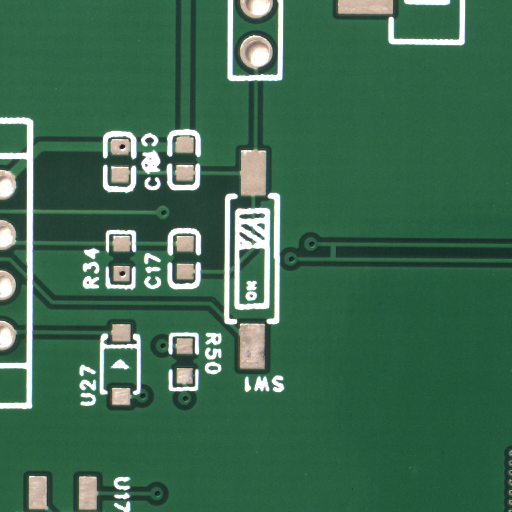Short: (332, 251, 342, 272)
